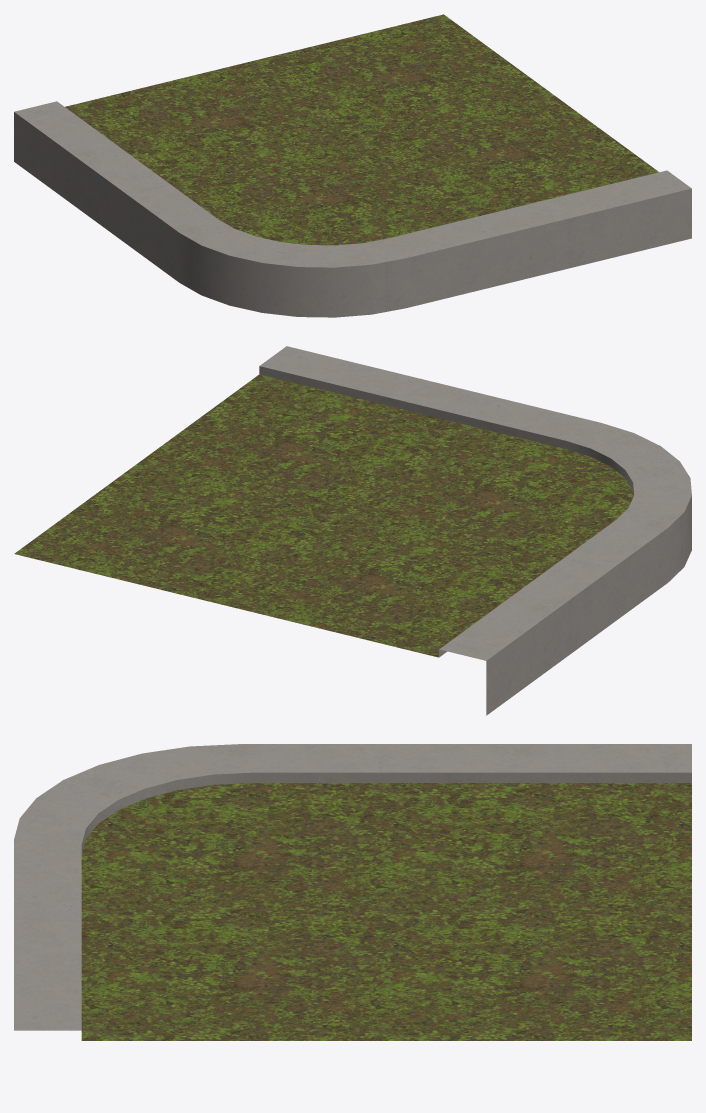
File: SM06_Landscape_FlowerBed_01_End.fbx
3 views of the same model, one above another, from view 1: azimuth 30°, elevation 25°; view 2: azimuth 150°, elevation 25°; view 3: azimuth 270°, elevation 25° (orthographic). The views are drawn at different scales.
Visible parts, largest first — view 1: SM06_Landscape_FlowerBed_01_End; view 2: SM06_Landscape_FlowerBed_01_End; view 3: SM06_Landscape_FlowerBed_01_End.
Part boxes in pixels (<box>): SM06_Landscape_FlowerBed_01_End: <box>14,14,691,317</box>; SM06_Landscape_FlowerBed_01_End: <box>14,346,691,715</box>; SM06_Landscape_FlowerBed_01_End: <box>14,744,691,1040</box>.
Size of the model in its own units: 1.8 by 0.2 by 1.8.
